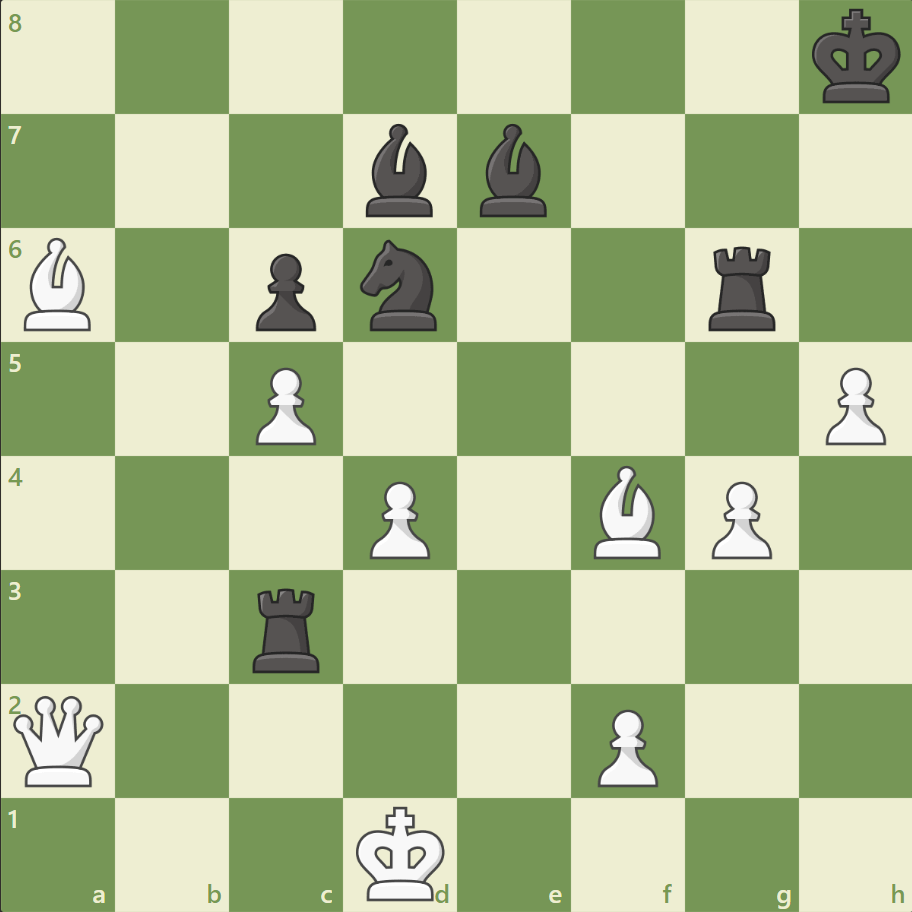B: (17, 233, 101, 336), (585, 460, 669, 563)
K: (351, 798, 451, 906)
P: (247, 359, 322, 450), (701, 473, 776, 564), (815, 359, 889, 450), (361, 473, 435, 564), (588, 700, 662, 791)
Q: (10, 690, 109, 789)
b: (358, 120, 442, 222), (471, 120, 555, 222)
k: (806, 4, 906, 112)
n: (351, 234, 449, 337)
p: (247, 246, 322, 337)
r: (700, 239, 783, 336), (246, 579, 329, 676)
